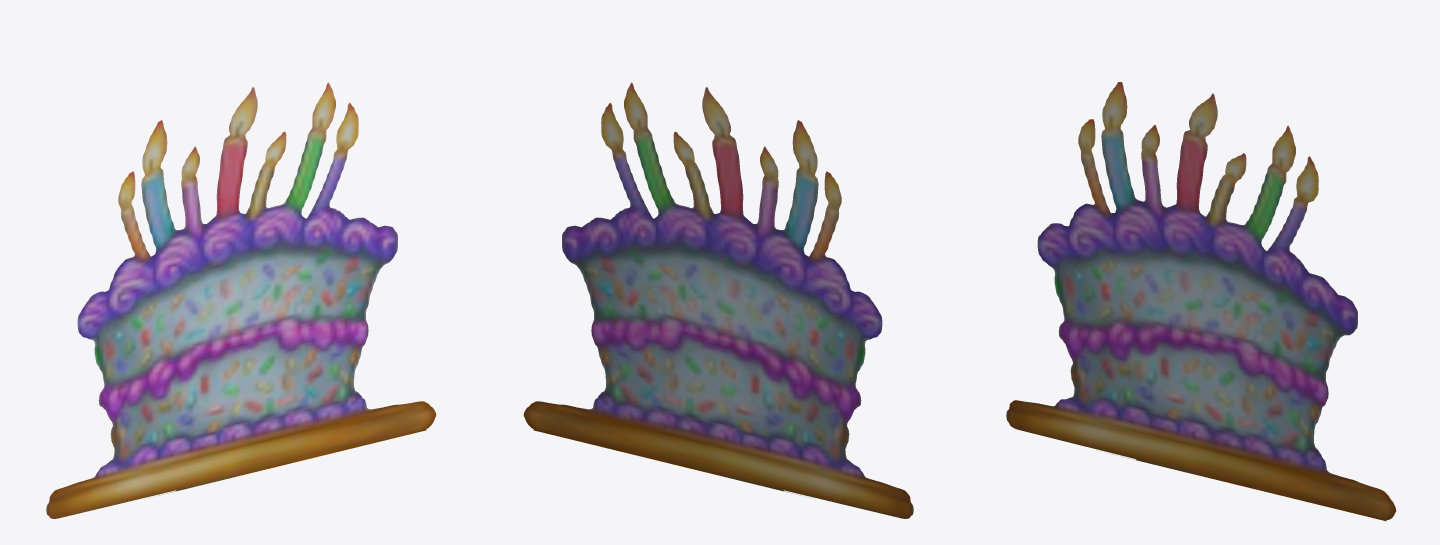
File: cake.glb
3 views of the same model, side by side, from view 1: azimuth 30°, elevation 25°; view 2: azimuth 150°, elevation 25°; view 3: azimuth 330°, elevation 25° (orthographic).
Parts seen in each view (by area): view 1: partyDecoration_Cake__billboard; view 2: partyDecoration_Cake__billboard; view 3: partyDecoration_Cake__billboard.
Part boxes in pixels (x1,y1,x2,y2): partyDecoration_Cake__billboard: (46,82,436,518); partyDecoration_Cake__billboard: (523,82,913,518); partyDecoration_Cake__billboard: (1006,82,1396,521).
Bounding box in the file's own units: 7.12 × 6.12 × 0.
Materials: 1 (1 with a texture image).
